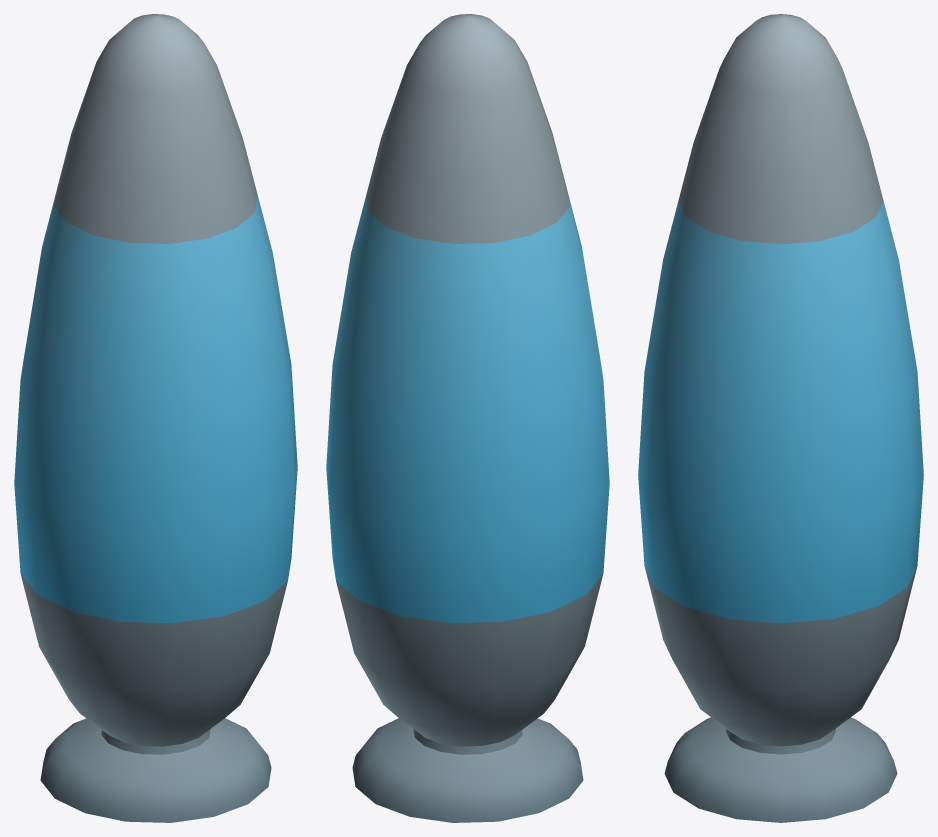
Rendered from LavaLamp_01.glb.
The picture shows the model from 3 angles, left to right: view 1: azimuth 30°, elevation 25°; view 2: azimuth 150°, elevation 25°; view 3: azimuth 270°, elevation 25°; orthographic projection.
Parts seen in each view (by area): view 1: LavaLamp_01; view 2: LavaLamp_01; view 3: LavaLamp_01.
Boxes of the visible parts, x1,y1,x2,y2 form: LavaLamp_01: [14, 14, 297, 822]; LavaLamp_01: [326, 14, 609, 822]; LavaLamp_01: [638, 14, 923, 822].
Bounding box in the file's own units: 0.1683 × 0.4914 × 0.1683.
Materials: 2 (2 with a texture image).
